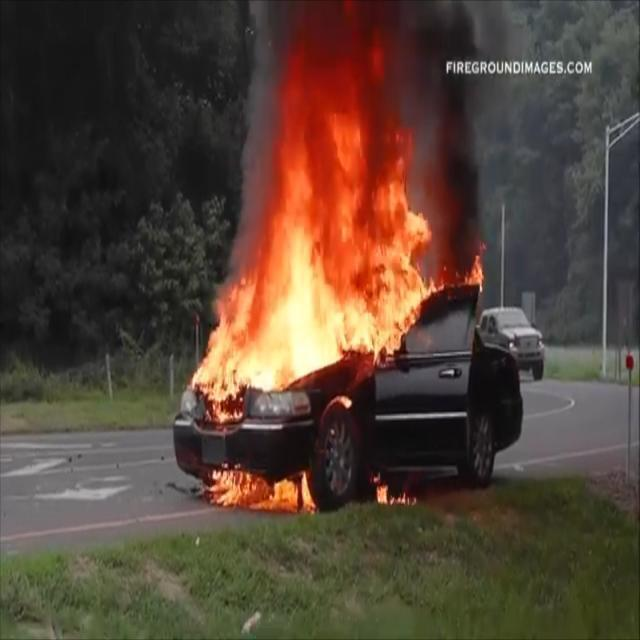fire: (198, 11, 482, 468), (208, 474, 424, 520)
